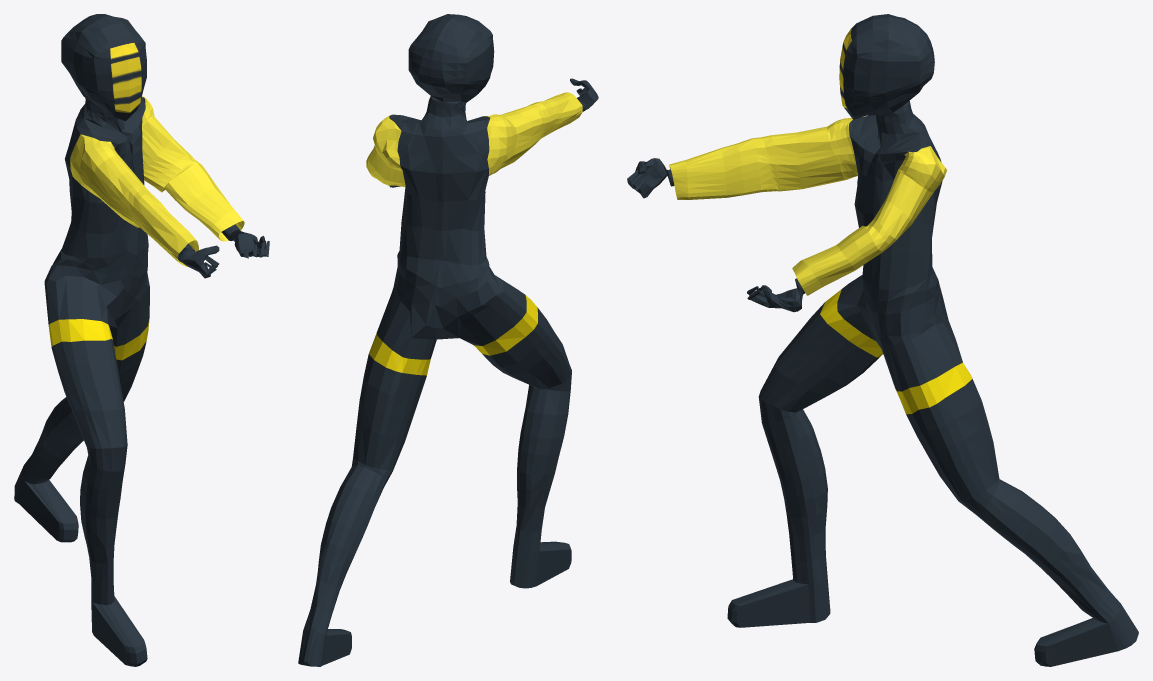
Rendered from Sentry_Attack_000031.obj.
3 views of the same model, side by side, from view 1: azimuth 30°, elevation 25°; view 2: azimuth 150°, elevation 25°; view 3: azimuth 270°, elevation 25° (orthographic). The views are drawn at different scales.
Visible parts, largest first — view 1: Cube; view 2: Cube; view 3: Cube.
Boxes of the visible parts, left/top/right/bottom form: Cube: left=14, top=14, right=269, bottom=666; Cube: left=298, top=14, right=598, bottom=666; Cube: left=627, top=14, right=1138, bottom=666.
Bounding box in the file's own units: 1.17 × 3.69 × 2.73.
